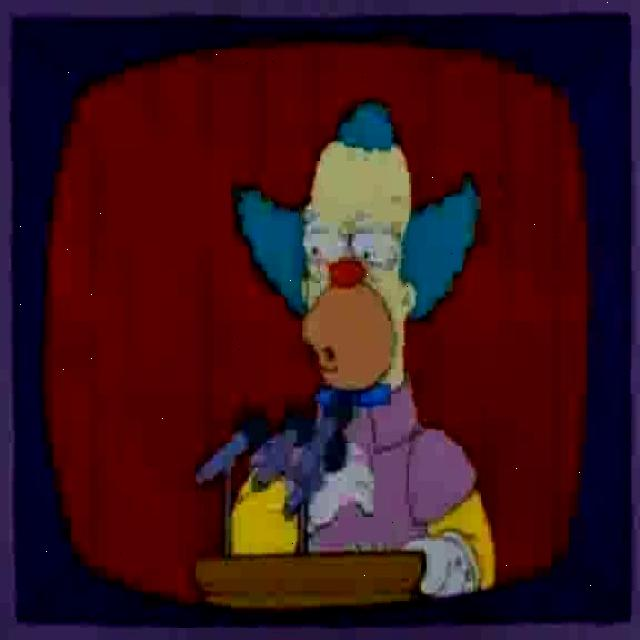Krusty the Clown: (236, 94, 482, 411)
